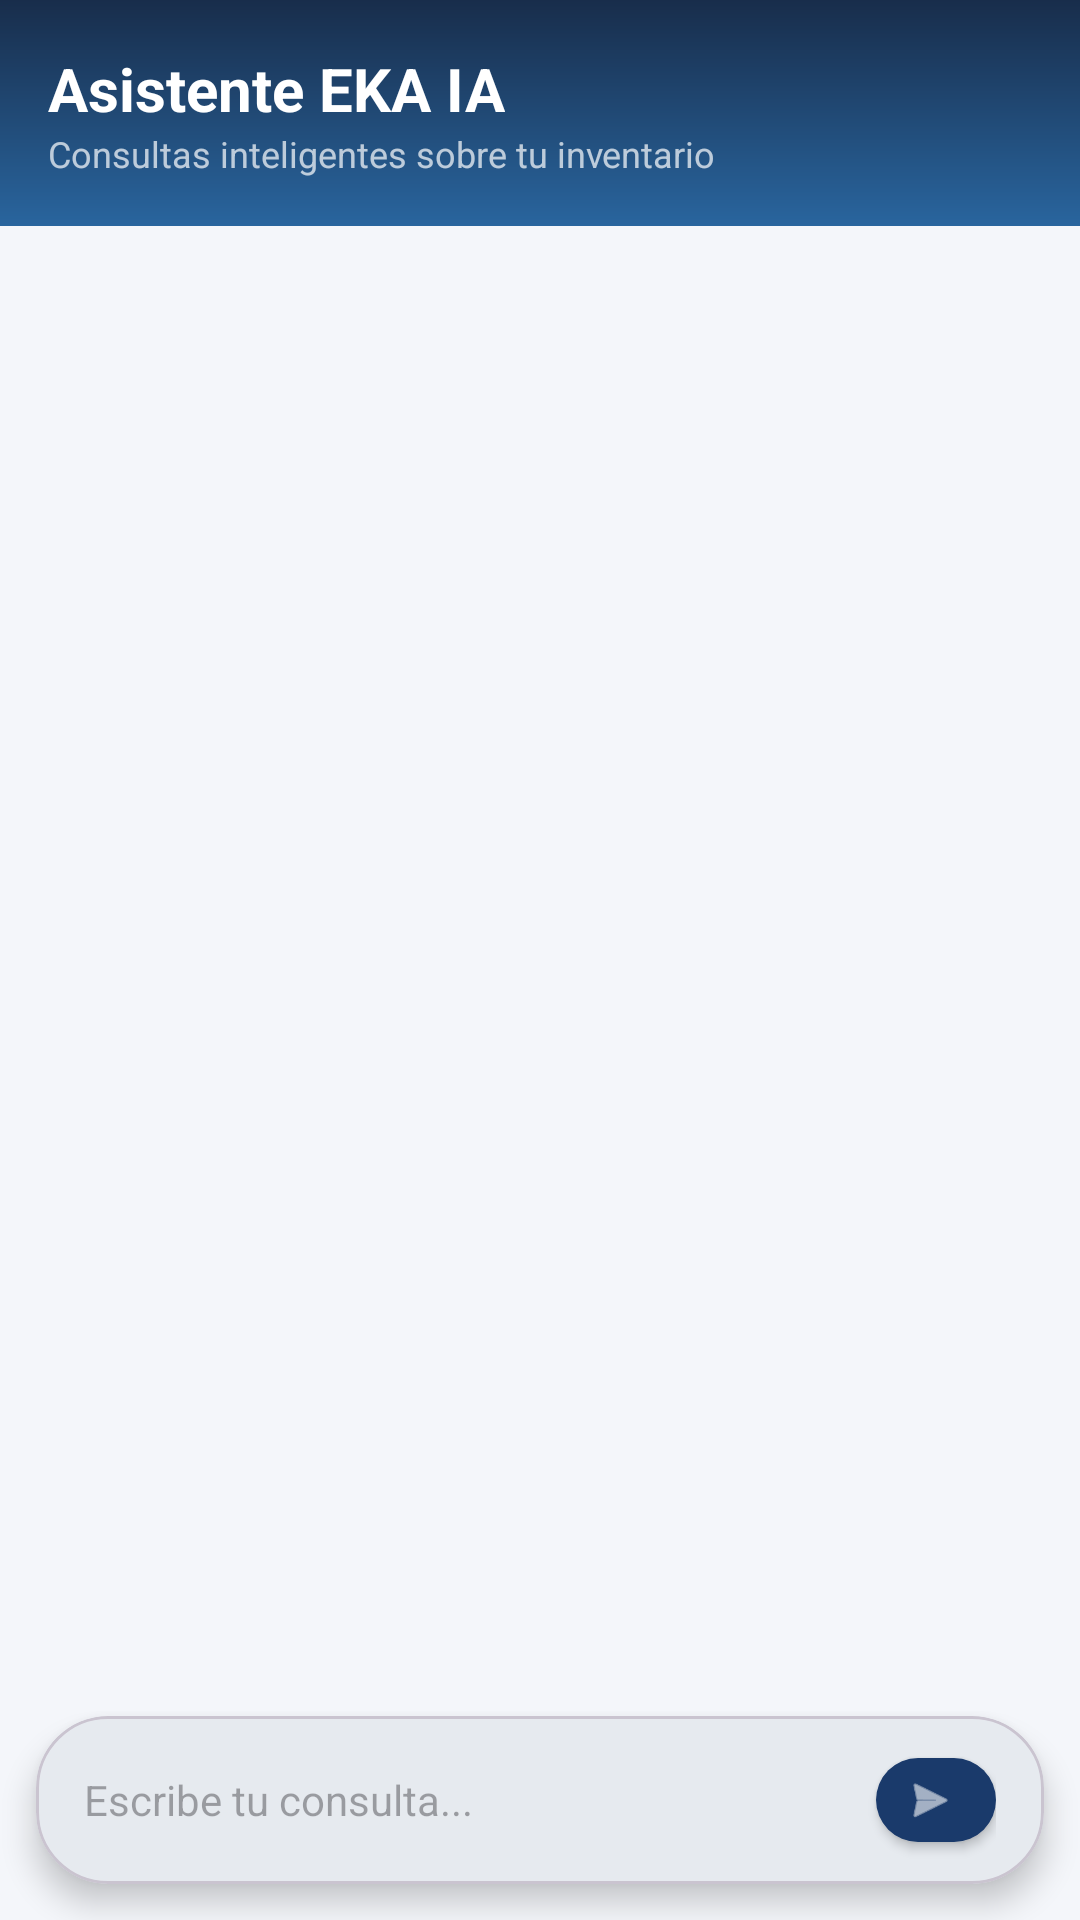

Icons on this 1080w x 1920h Android screen, each with its box as (x1, y1, x2, y2):
send: (876, 1758, 996, 1847)
